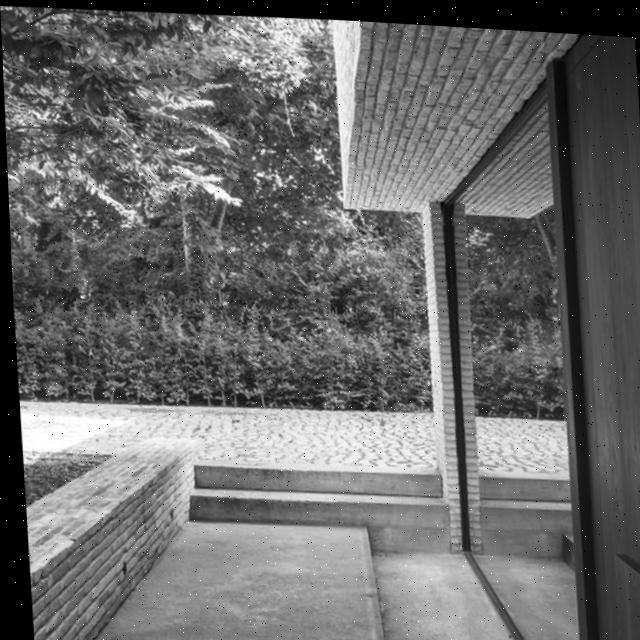building: (328, 19, 640, 640)
